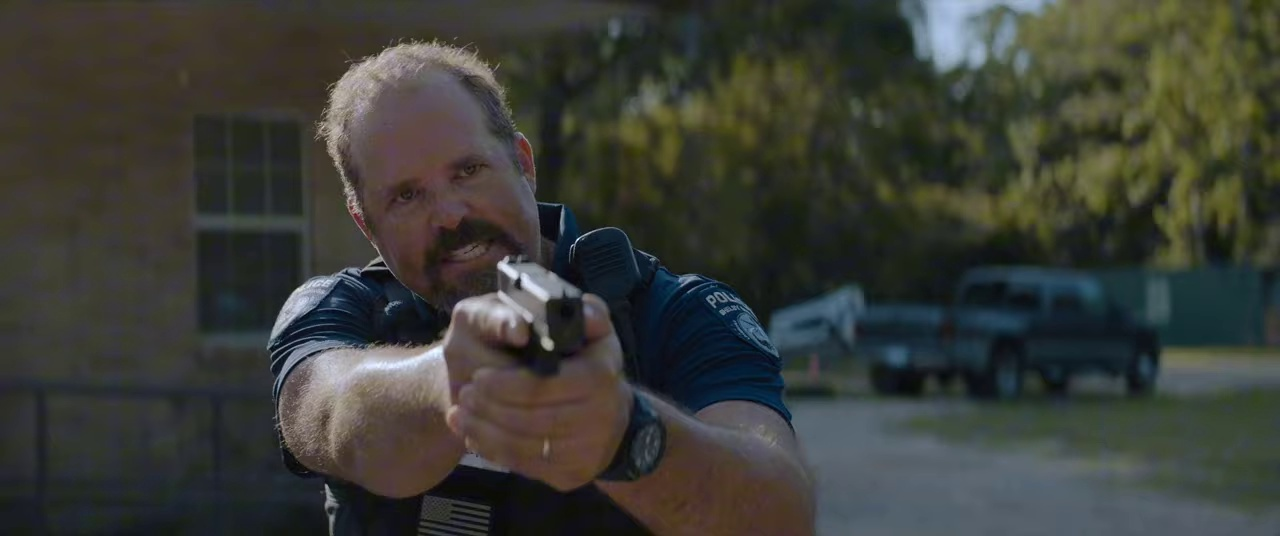gun: (485, 240, 599, 403)
p_w_gun: (261, 42, 820, 536)
